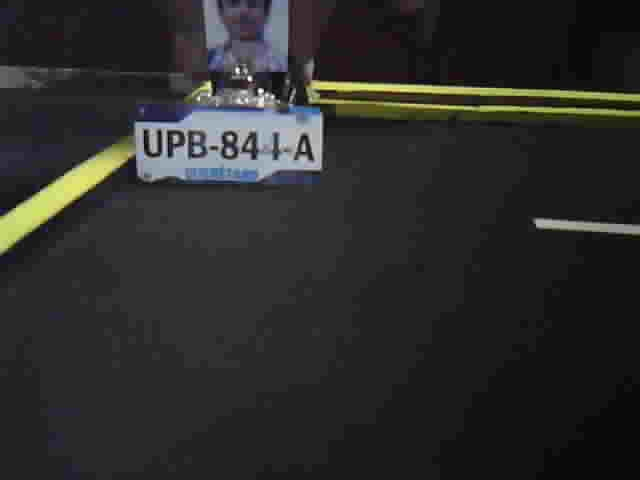PLACA: (130, 100, 327, 193)
ROSTRO: (207, 1, 289, 73)
